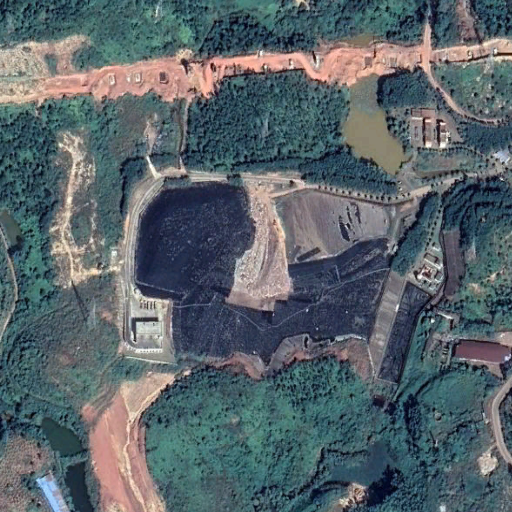lf: (135, 180, 400, 367)
